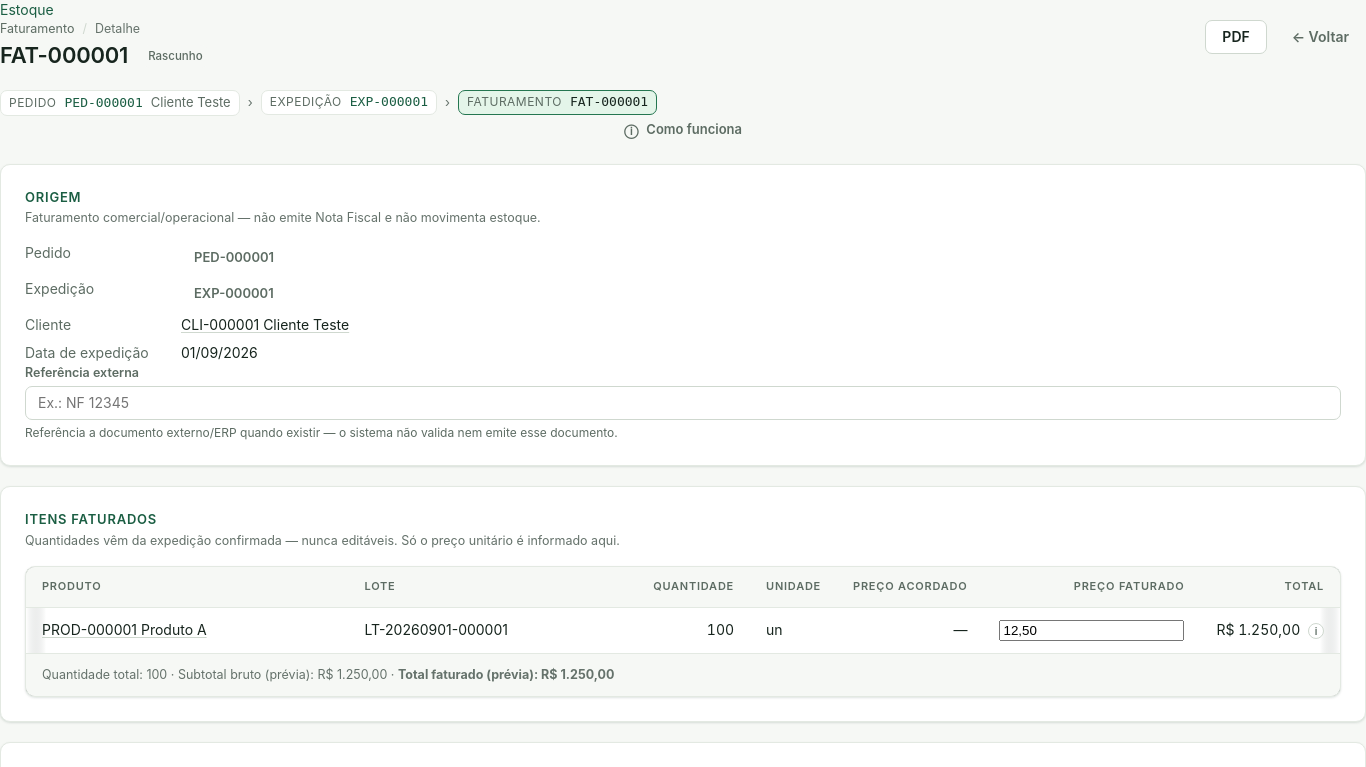
Test: Faturamento — guarda de alterações não salvas › preço digitado: a faixa e o botão acordam, e sair pelo menu pergunta
Expected: the heading "FAT-000001" is shown, [0,42,128,70]
Replace the text in the field named "Preço faturado de PROD-000001" with "13,25" at (1092, 630), box [1000,620,1184,641]
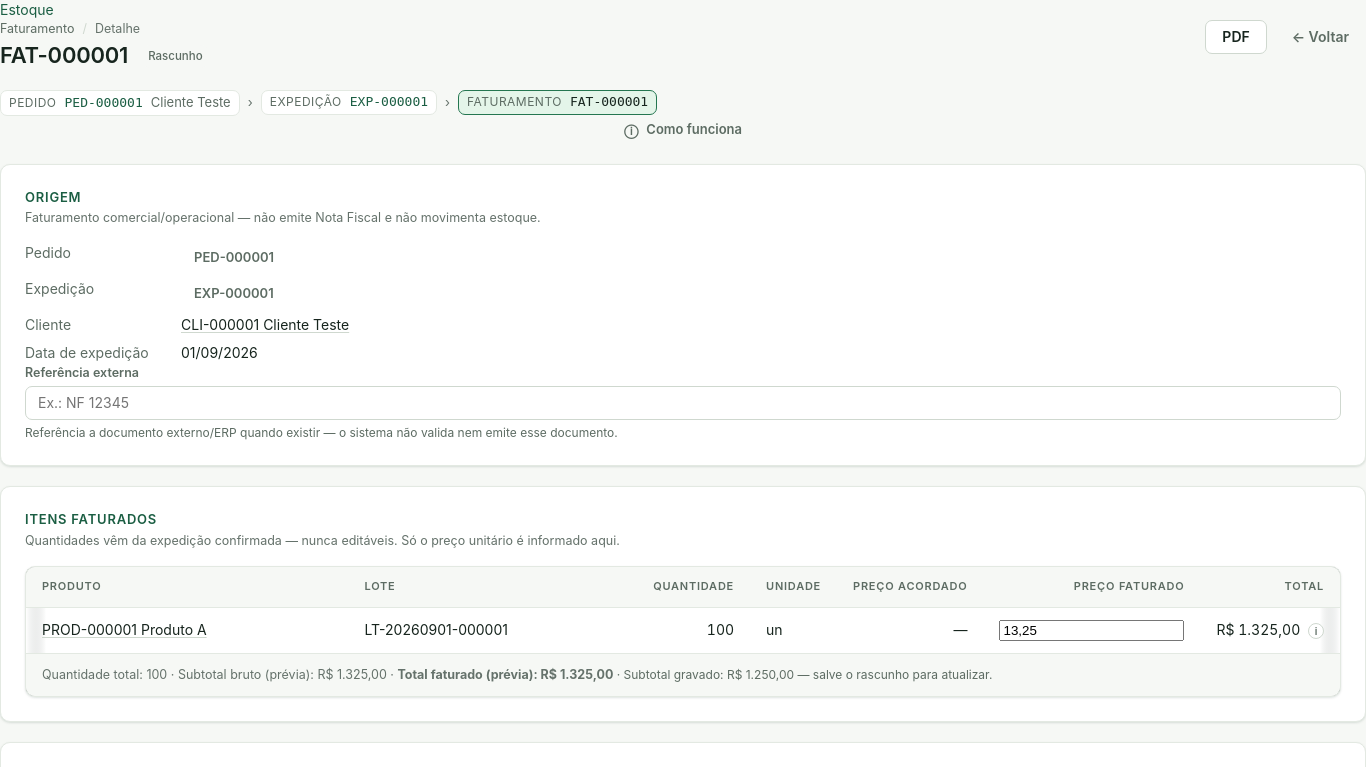
Click the link "Estoque" at (27, 10), box [0,1,54,18]
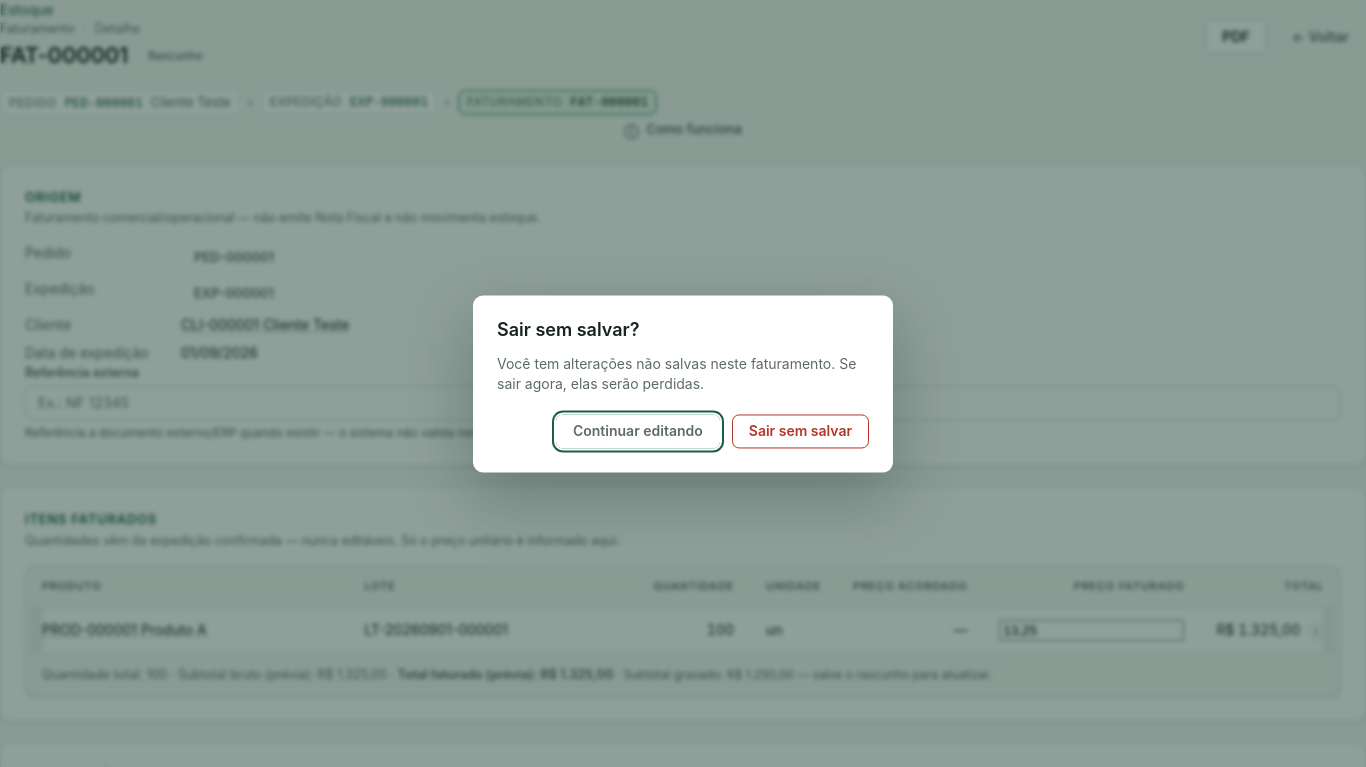
Expected: the heading "Sair sem salvar?" is shown, [497,320,640,340]
Expected: the text "alterações não salvas neste faturamento" is shown, [497,354,869,395]
Click the button "Continuar editando" at (638, 432), box [556,414,720,448]
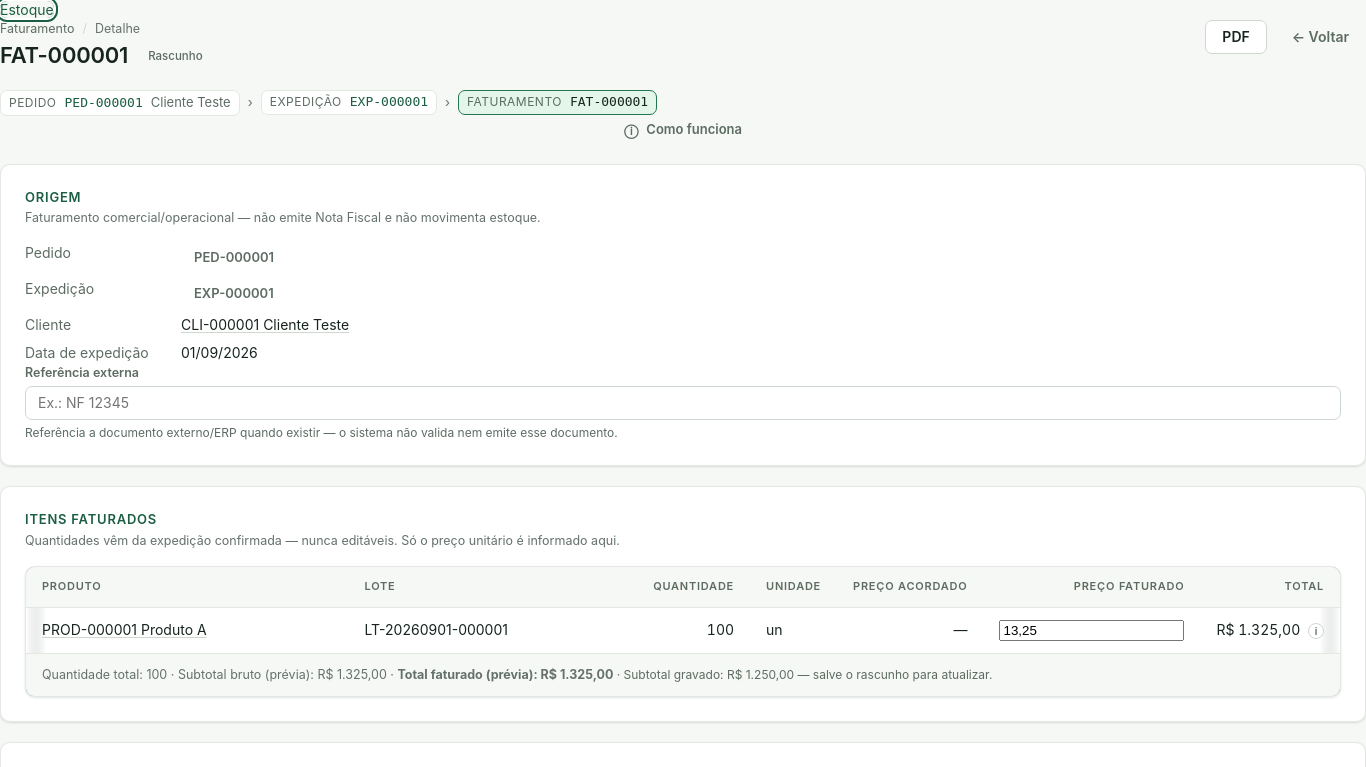
Expected: the heading "FAT-000001" is shown, [0,42,128,70]
Expected: the heading "Sair sem salvar?" is gone
